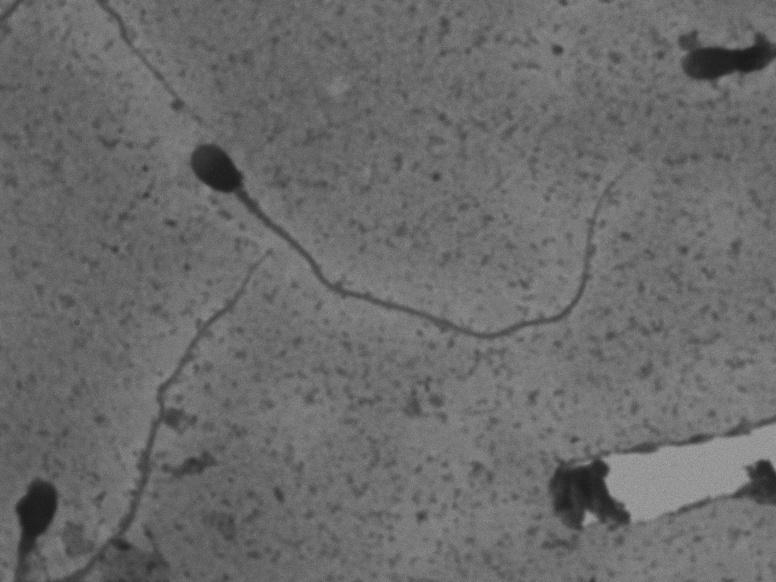Normal: (176, 113, 636, 353)
